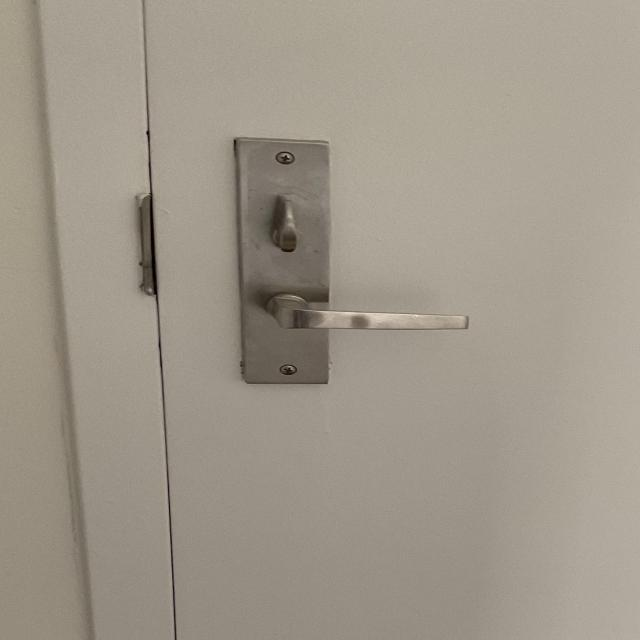door_handle: (247, 281, 491, 340)
